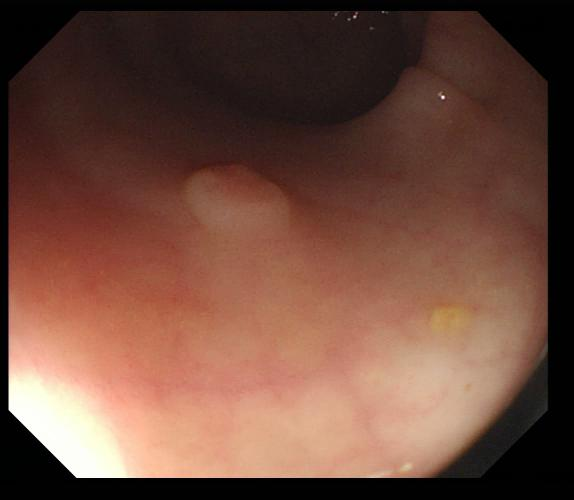polyp: (183, 159, 293, 240)
